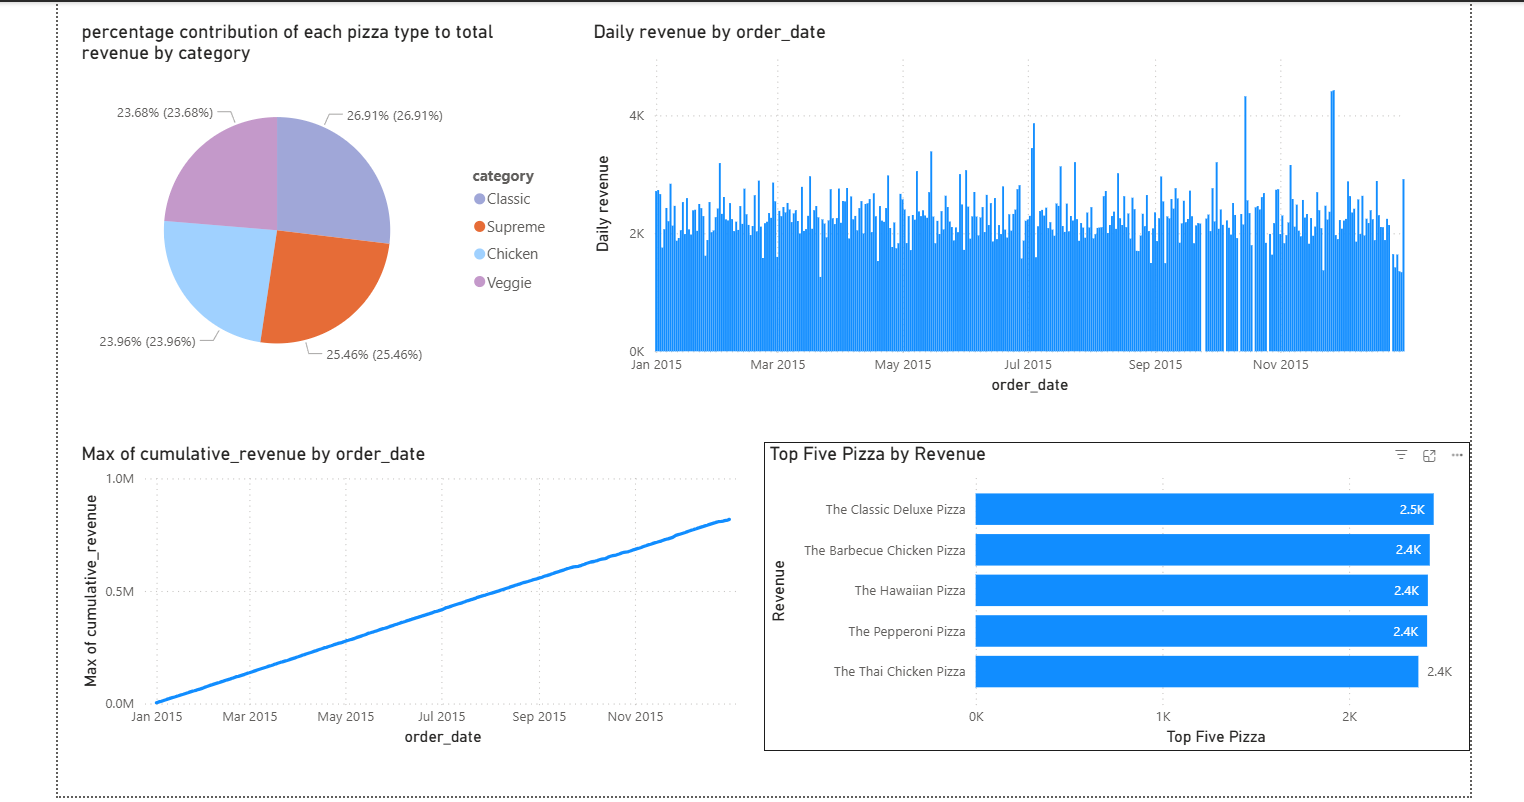

The page's visual inventory and layout, read from the dashboard file:
{"tool":"powerbi","page":{"name":"Page 1","canvas":[1280,720],"ordinal":0},"visuals":[{"type":"pieChart","fields":{"Category":["percentage_contribution.category"],"Y":["CountNonNull(percentage_contribution.revenue)"]},"box":[16.5,16.5,439.6,343.3],"z":1000},{"type":"lineChart","fields":{"Y":["Max(cumulative_revenue.cumulative_revenue)"],"Category":["cumulative_revenue.order_date"]},"box":[16.5,398.8,623.5,280.1],"z":1001},{"type":"clusteredColumnChart","fields":{"Y":["Sum(Daily_revenue.revenue)"],"Category":["Daily_revenue.order_date"]},"box":[480.5,16.5,772.3,343.3],"z":1002},{"type":"clusteredBarChart","fields":{"Category":["Top_5_ordered_pizza.name"],"Y":["Max(Top_5_ordered_pizza.Total_quantity)"]},"box":[640,398.8,640,280.1],"z":1003}]}

Visuals, with their boxes on the page's 1280x720 design canvas (x1, y1, x2, y2). These are canvas units, not pixel positions in the 1524x802 screenshot, which may show the page scaled, cropped or inside an application window:
pieChart - percentage_contribution.category x CountNonNull(percentage_contribution.revenue): bbox(16, 16, 456, 360)
lineChart - Max(cumulative_revenue.cumulative_revenue) x cumulative_revenue.order_date: bbox(16, 399, 640, 679)
clusteredColumnChart - Sum(Daily_revenue.revenue) x Daily_revenue.order_date: bbox(480, 16, 1253, 360)
clusteredBarChart - Top_5_ordered_pizza.name x Max(Top_5_ordered_pizza.Total_quantity): bbox(640, 399, 1280, 679)
